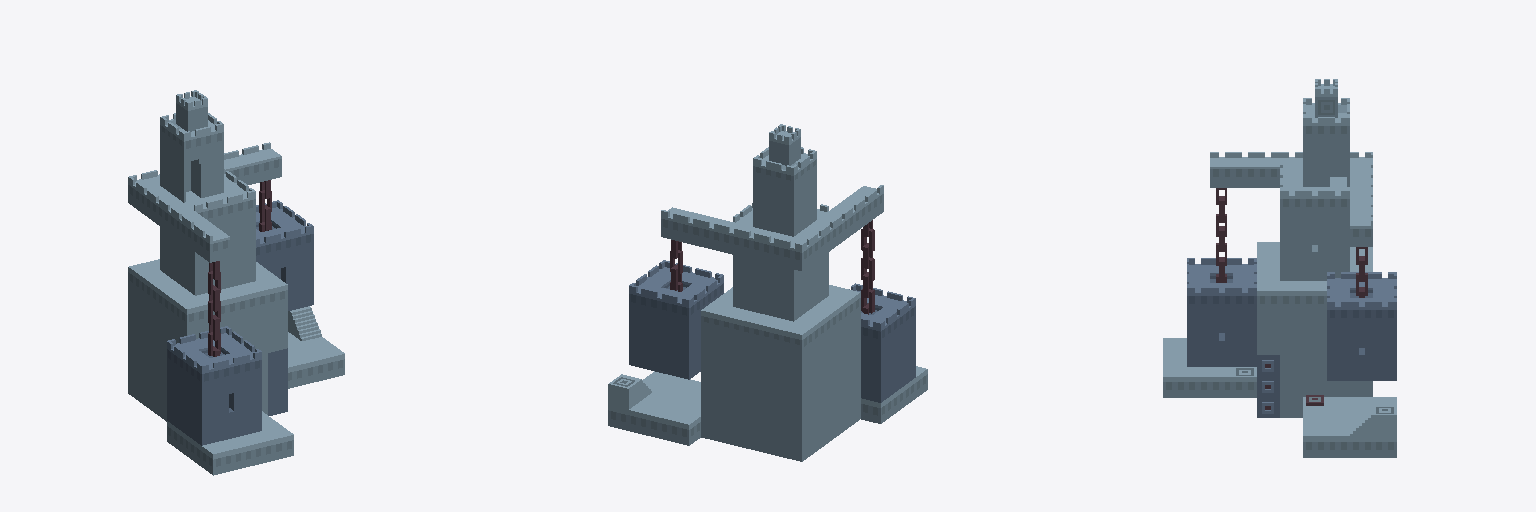
3 views of the same model, side by side, from view 1: azimuth 30°, elevation 25°; view 2: azimuth 150°, elevation 25°; view 3: azimuth 270°, elevation 25° (orthographic).
Bounding box in the file's own units: 80 × 115 × 80.
Materials: 1 (1 with a texture image).